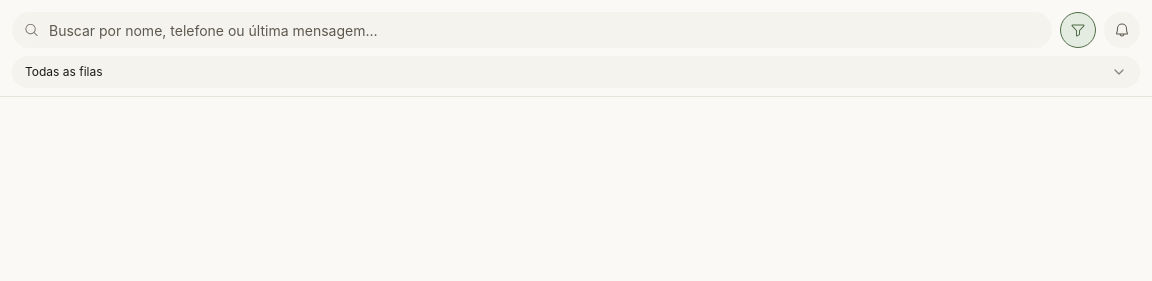
Test case: o seletor de fila por time › aparece com time cadastrado e oferece as duas filas que não são time
The image size is (1152, 281).
Click the dropdown named "Filtrar por time": point(64, 72) [12,56,1140,88]
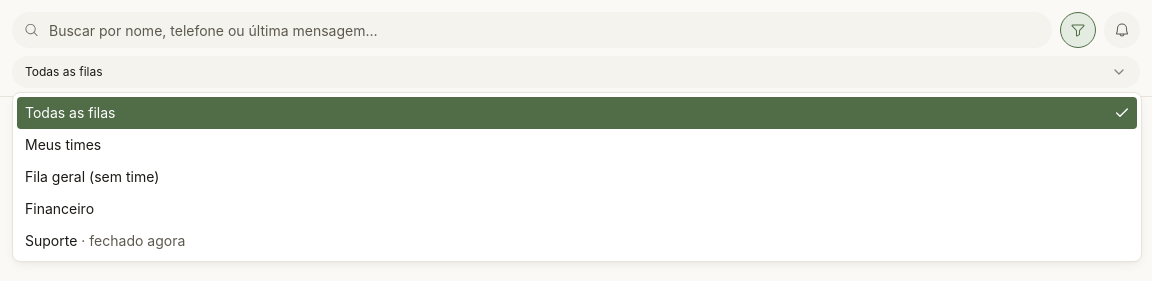
Expected: the text "Meus times" is shown, [25,135,101,155]
Expected: the text "Fila geral (sem time)" is shown, [25,167,159,187]
Expected: the text "Financeiro" is shown, [25,199,94,219]
